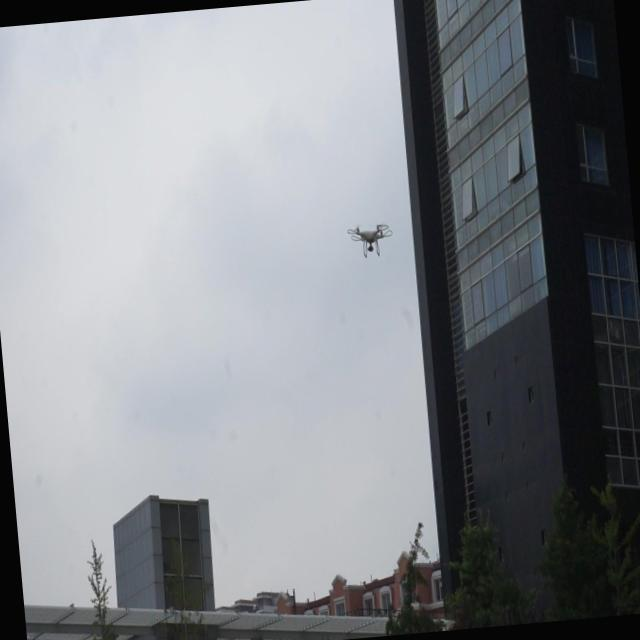drone: (343, 218, 398, 264)
